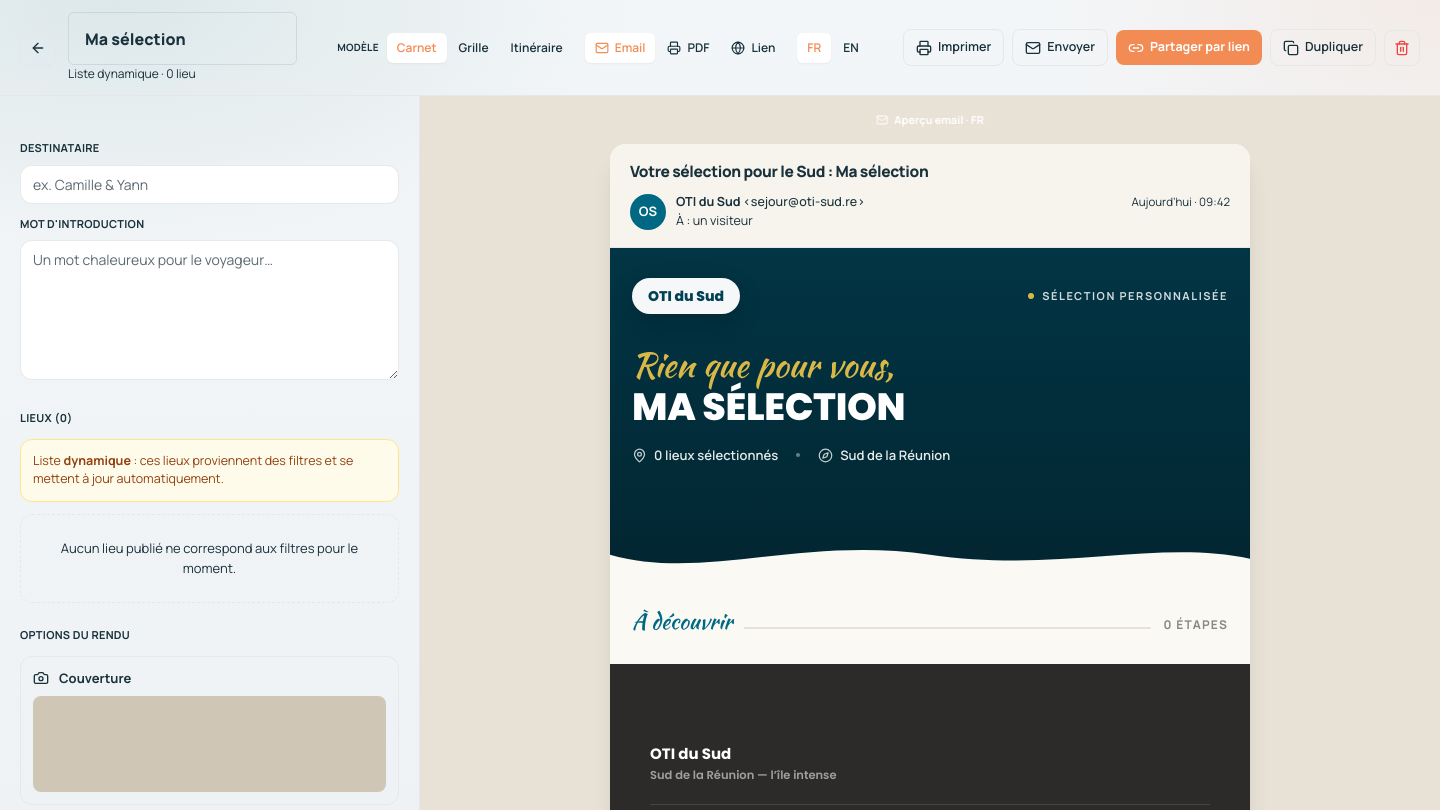
Scenario: ListComposeView — modal « Partager par lien » › active le partage et ouvre le modal avec le lien à copier
Step 1. Click the button "Partager par lien" → (1189, 48), box x1=1116 y1=30 x2=1262 y2=65
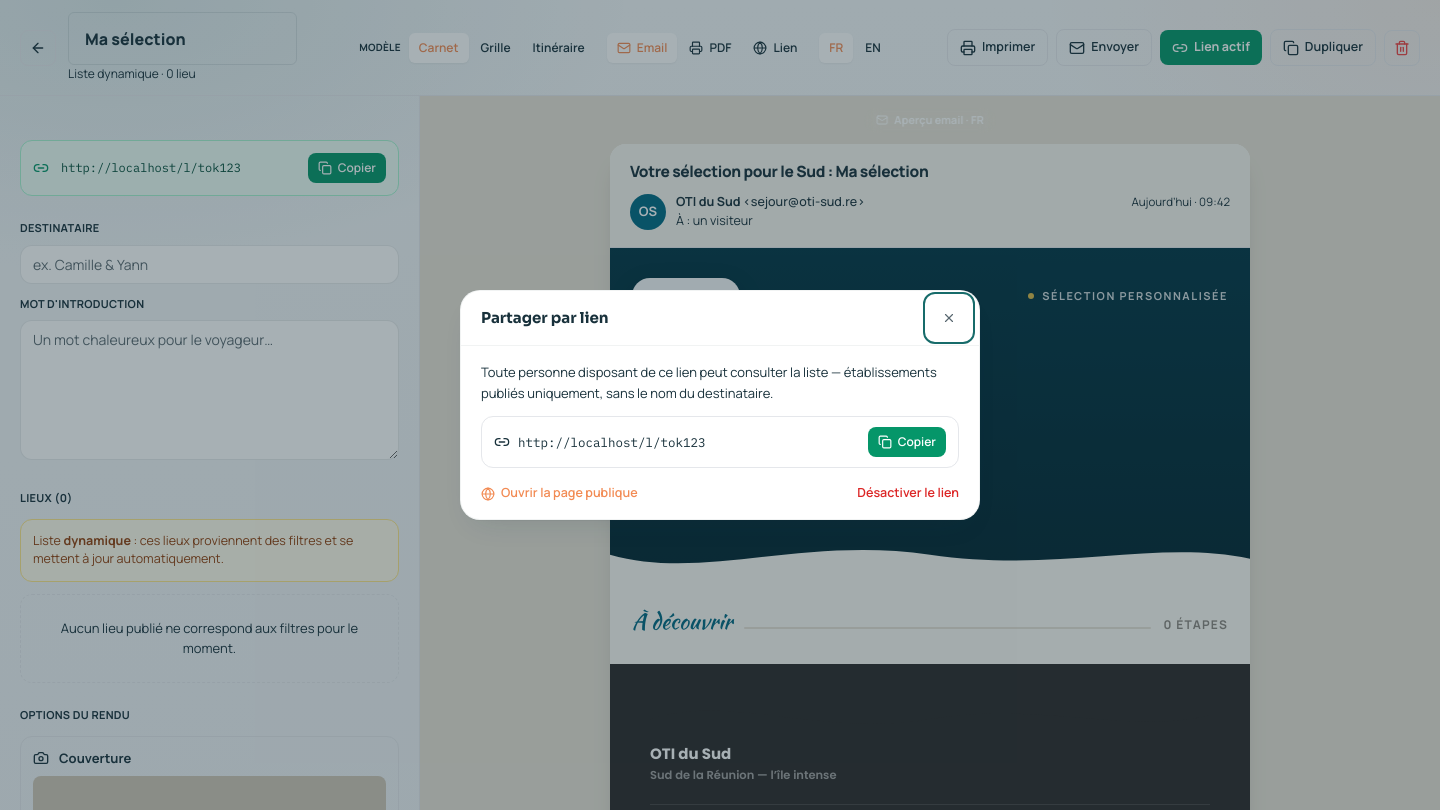
expect the text "http://localhost/l/tok123" is shown: met, box x1=518 y1=434 x2=706 y2=450
expect the button "Copier" is shown: met, box x1=868 y1=427 x2=946 y2=457
